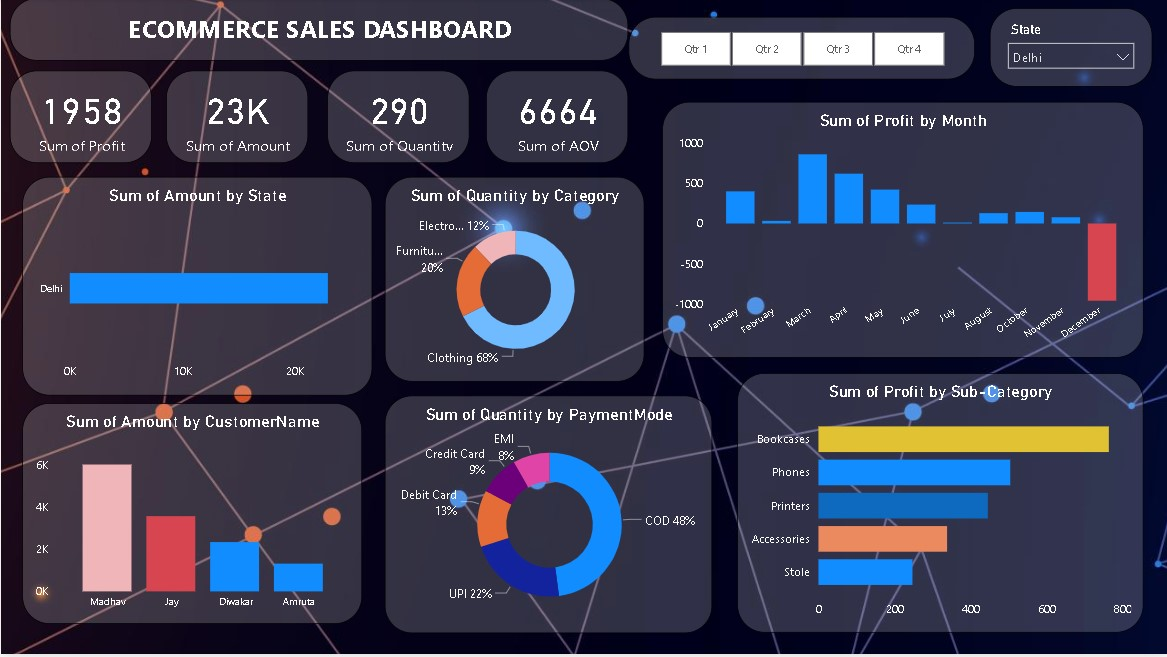

Layout of this report page (visuals, bound fields, positions):
{"tool":"powerbi","page":{"name":"Page 1","canvas":[1280,720],"ordinal":0},"visuals":[{"type":"textbox","box":[9.6,0,678.7,68.6],"z":0},{"type":"barChart","fields":{"Category":["Details.Sub-Category"],"Y":["Sum(Details.Profit)"]},"box":[807.5,411.3,445.6,285.2],"z":1000},{"type":"donutChart","title":" Sum of Quantity by Category","fields":{"Category":["Details.Category"],"Y":["Sum(Details.Quantity)","Sum(Details.Quantity)"]},"box":[420.9,196.1,285.2,224.9],"z":2000},{"type":"donutChart","title":" Sum of Quantity by PaymentMode","fields":{"Y":["Sum(Details.Quantity)","Sum(Details.Quantity)"],"Category":["Details.PaymentMode"]},"box":[420.9,436,359.2,260.5],"z":3000},{"type":"card","fields":{"Values":["Sum(Details.Amount)"]},"box":[181,79.5,156.3,101.5],"z":4000},{"type":"card","fields":{"Values":["Sum(Details.Profit)"]},"box":[9.6,79.5,156.3,101.5],"z":5000},{"type":"card","fields":{"Values":["Sum(Details.Quantity)"]},"box":[357.8,79.5,156.3,101.5],"z":6000},{"type":"card","fields":{"Values":["Sum(Details.AOV)"]},"box":[532,79.5,156.3,101.5],"z":7000},{"type":"barChart","fields":{"Y":["Sum(Details.Amount)"],"Category":["Orders.State"]},"box":[23.3,196.1,383.9,239.9],"z":8000},{"type":"columnChart","fields":{"Y":["Sum(Details.Amount)"],"Category":["Orders.CustomerName"]},"box":[23.3,444.2,372.9,242.7],"z":9000},{"type":"slicer","fields":{"Values":["Orders.Order Date.Variation.Date Hierarchy.Quarter"]},"box":[688.3,20.6,379.8,68.6],"z":10000},{"type":"slicer","fields":{"Values":["Orders.State"]},"box":[1084.5,11,178.2,86.4],"z":11000},{"type":"columnChart","fields":{"Y":["Sum(Details.Profit)"],"Category":["Orders.Order Date.Variation.Date Hierarchy.Month"]},"box":[725.3,113.8,527.9,281.1],"z":12000}]}

Visuals, with their boxes in screenshot pixels (x1, y1, x2, y2), scaled from the page's 1280x720 canvas onto the 1167x657 screenshot:
textbox: locate(9, 0, 628, 63)
barChart - Details.Sub-Category x Sum(Details.Profit): locate(736, 375, 1142, 636)
" Sum of Quantity by Category" donutChart: locate(384, 179, 644, 384)
" Sum of Quantity by PaymentMode" donutChart: locate(384, 398, 711, 636)
card - Sum(Details.Amount): locate(165, 73, 308, 165)
card - Sum(Details.Profit): locate(9, 73, 151, 165)
card - Sum(Details.Quantity): locate(326, 73, 469, 165)
card - Sum(Details.AOV): locate(485, 73, 628, 165)
barChart - Sum(Details.Amount) x Orders.State: locate(21, 179, 371, 398)
columnChart - Sum(Details.Amount) x Orders.CustomerName: locate(21, 405, 361, 627)
slicer - Orders.Order Date.Variation.Date Hierarchy.Quarter: locate(628, 19, 974, 81)
slicer - Orders.State: locate(989, 10, 1151, 89)
columnChart - Sum(Details.Profit) x Orders.Order Date.Variation.Date Hierarchy.Month: locate(661, 104, 1143, 360)
